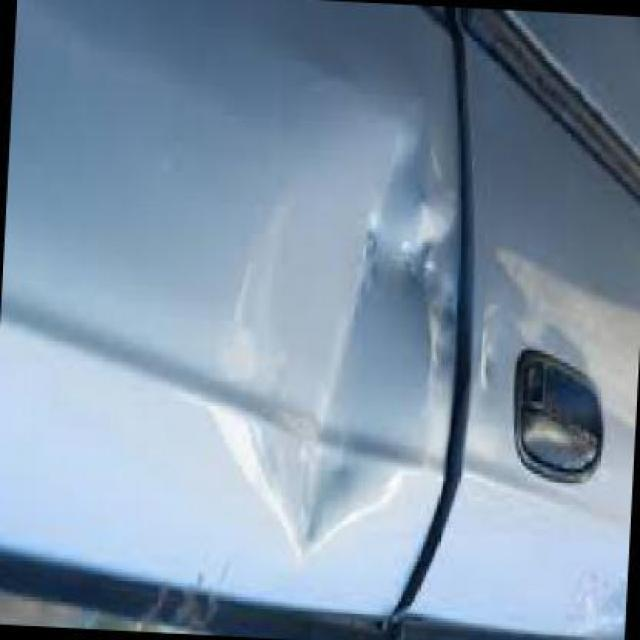dent: (214, 82, 437, 570)
